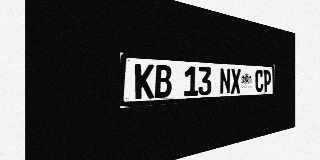1: (184, 66, 198, 96)
3: (198, 67, 211, 96)
B: (155, 65, 172, 98)
C: (255, 70, 263, 92)
K: (135, 64, 154, 99)
N: (220, 68, 230, 94)
P: (263, 70, 271, 92)
X: (231, 68, 241, 94)
